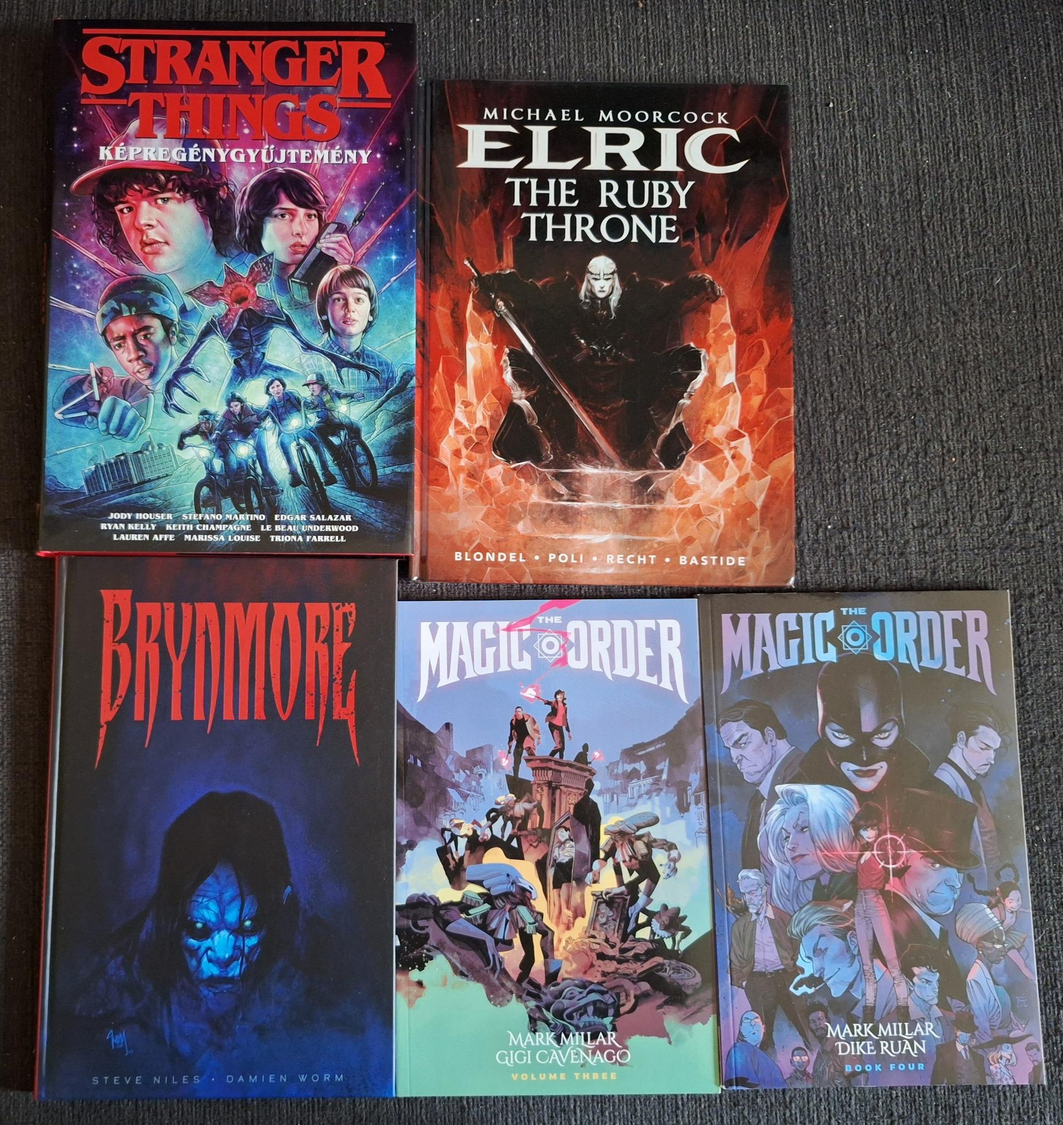comic: (40, 19, 419, 557), (37, 555, 398, 1102), (422, 81, 794, 586), (699, 581, 1045, 1098), (391, 597, 718, 1096)
